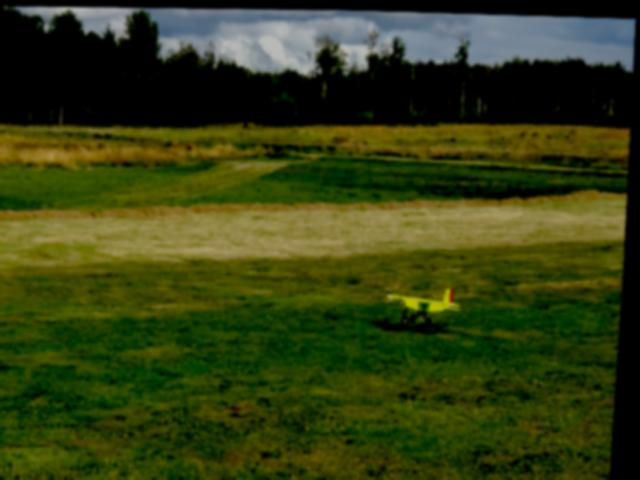plane: (389, 282, 466, 326)
